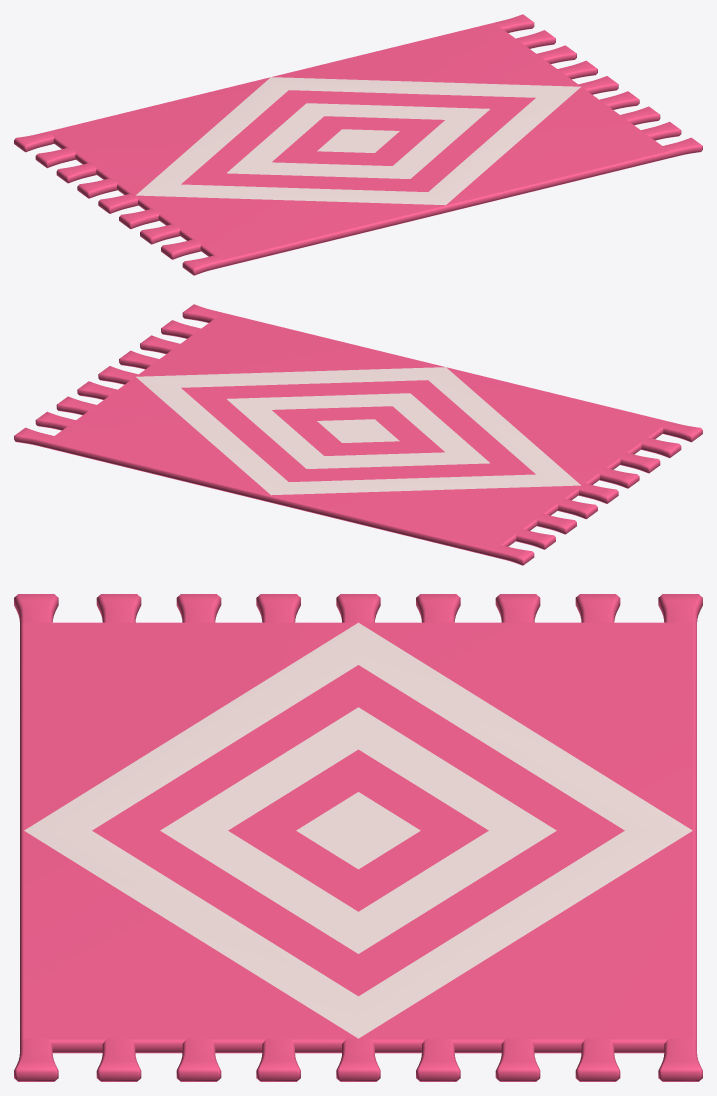
File: City_15_Rug_1.glb
3 views of the same model, one above another, from view 1: azimuth 30°, elevation 25°; view 2: azimuth 150°, elevation 25°; view 3: azimuth 270°, elevation 25° (orthographic). The views are drawn at different scales.
Parts seen in each view (by area): view 1: City_15_Rug_1; view 2: City_15_Rug_1; view 3: City_15_Rug_1.
Part boxes in pixels (<box>): City_15_Rug_1: <box>14,14,702,275</box>; City_15_Rug_1: <box>14,304,702,565</box>; City_15_Rug_1: <box>14,594,702,1081</box>.
Size of the model in its own units: 2.89 by 0.0415 by 1.77.
Materials: 1 (1 with a texture image).
